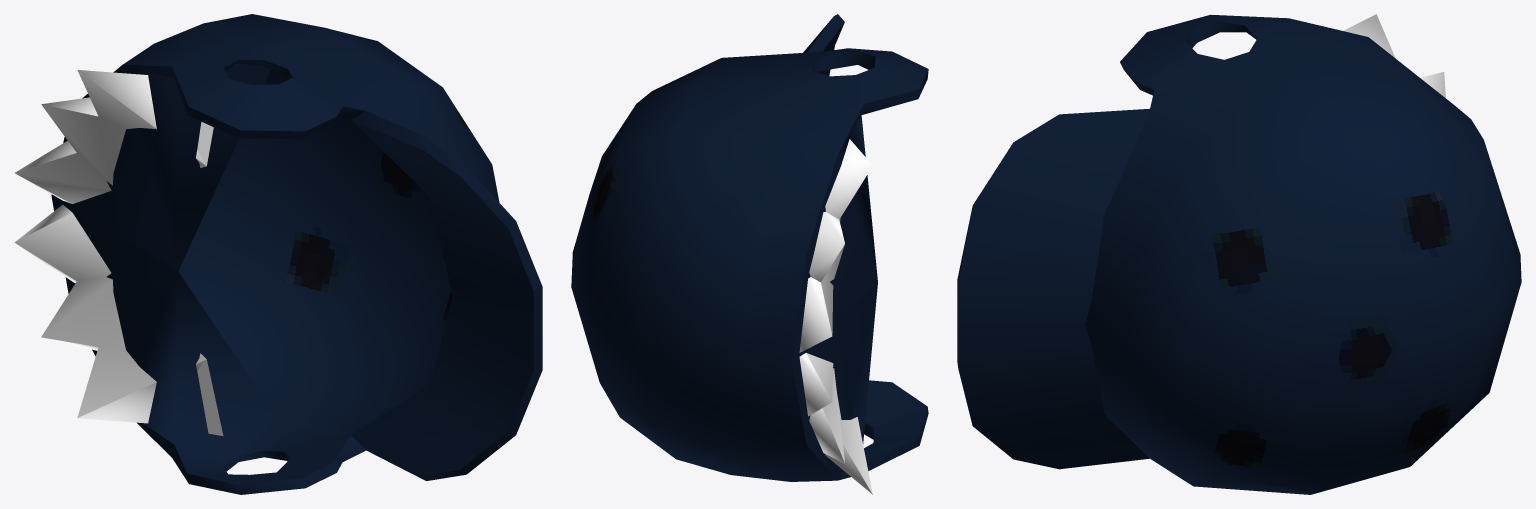
Rendered from hlmt_baseball.dae.
The picture shows the model from 3 angles, left to right: view 1: azimuth 30°, elevation 25°; view 2: azimuth 150°, elevation 25°; view 3: azimuth 270°, elevation 25°; orthographic projection. The views are drawn at different scales.
Visible parts, largest first — view 1: hlmt_baseball; view 2: hlmt_baseball; view 3: hlmt_baseball.
Part boxes in pixels (bbox=[...]): hlmt_baseball: bbox=[14, 14, 542, 494]; hlmt_baseball: bbox=[571, 14, 928, 494]; hlmt_baseball: bbox=[957, 14, 1521, 494].
Bounding box in the file's own units: 20.66 × 22.92 × 27.96.
Materials: 2 (2 with a texture image).
